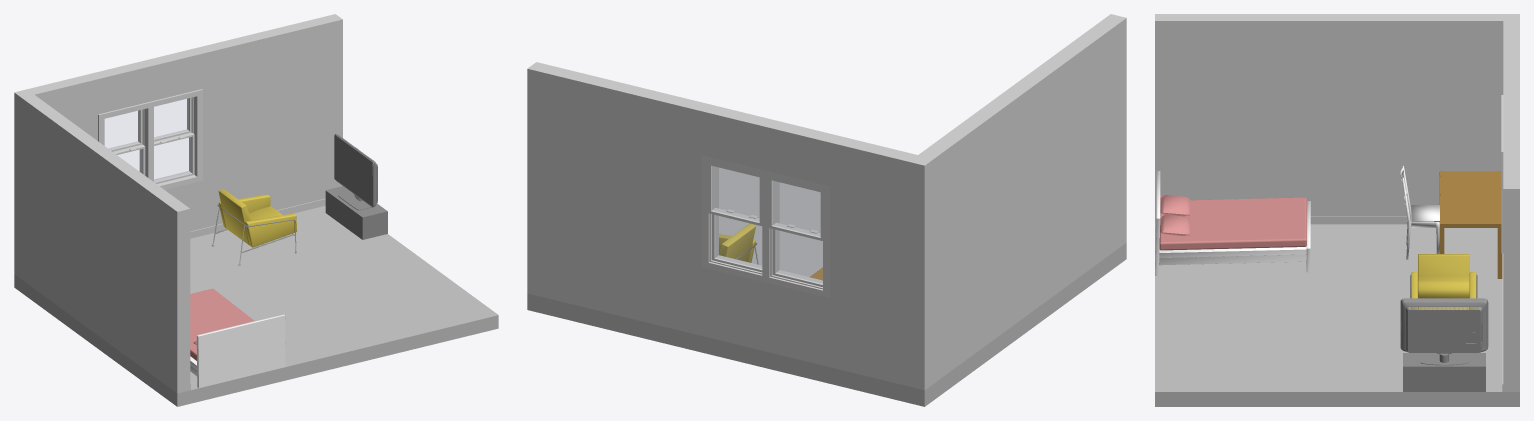
The model's file is L14_W16_furniture3_privacy2.glb.
The picture shows the model from 3 angles, left to right: view 1: azimuth 30°, elevation 25°; view 2: azimuth 150°, elevation 25°; view 3: azimuth 270°, elevation 25°; orthographic projection. The views are drawn at different scales.
Bounding box in the file's own units: 200 × 116 × 176.
